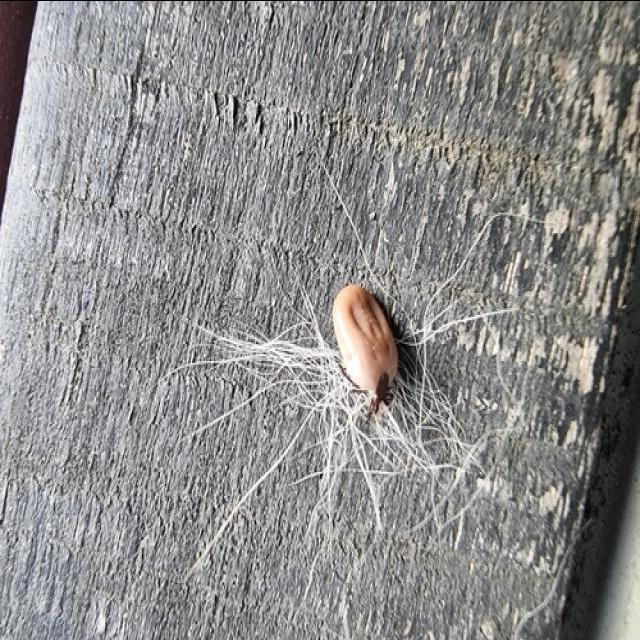Ixodes Ricinus-F-Fed: (330, 282, 404, 418)
